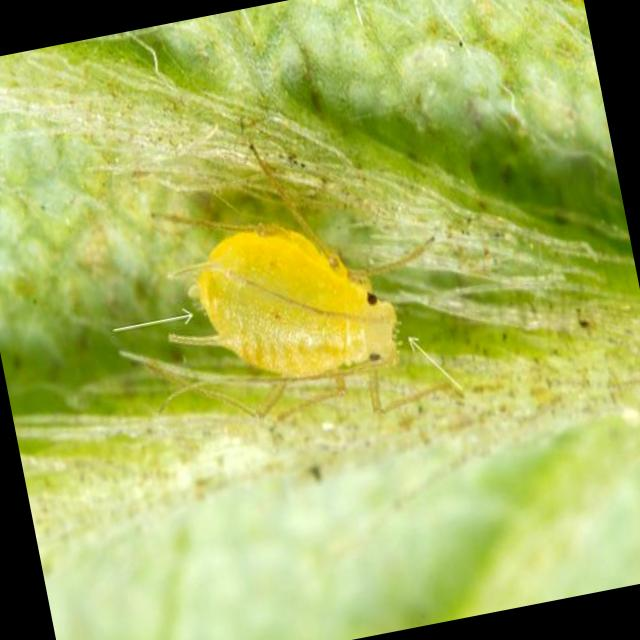Aphids: (76, 129, 490, 512)
